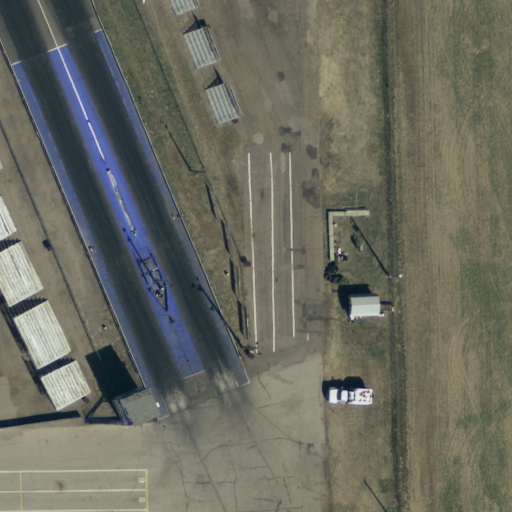DT: (379, 263, 409, 291), (183, 162, 215, 185), (238, 339, 260, 365)
